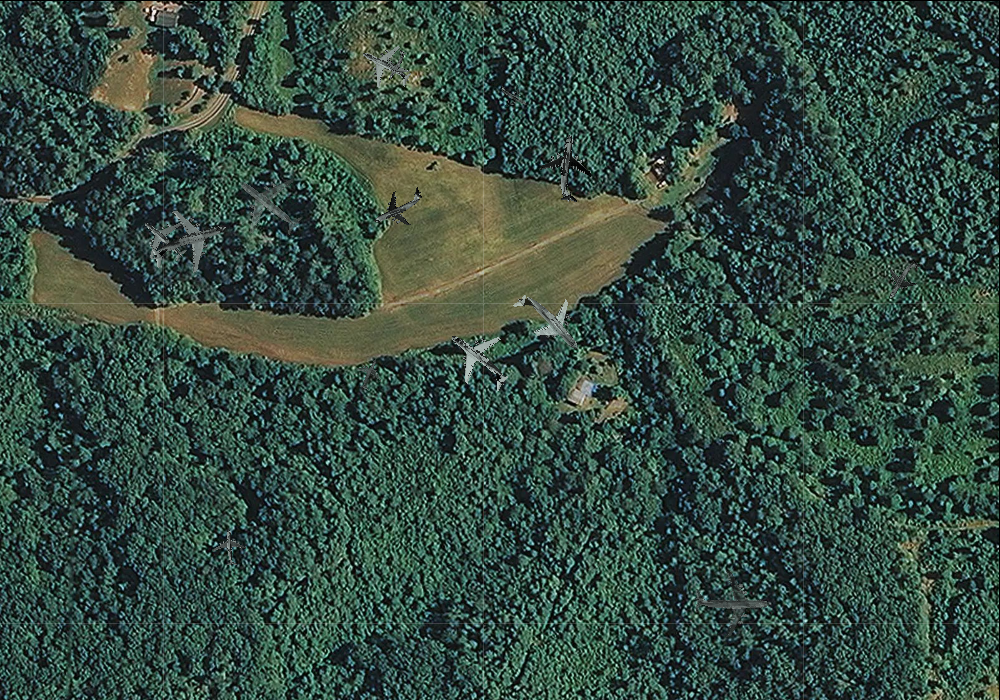plane: (498, 272, 598, 373), (219, 155, 317, 253), (430, 312, 527, 408), (139, 195, 237, 290), (694, 566, 770, 638), (533, 130, 603, 206), (350, 31, 421, 101), (128, 205, 198, 274), (363, 174, 432, 239), (876, 250, 932, 308), (375, 43, 417, 86), (349, 353, 390, 395), (492, 74, 534, 115), (211, 528, 248, 567)
